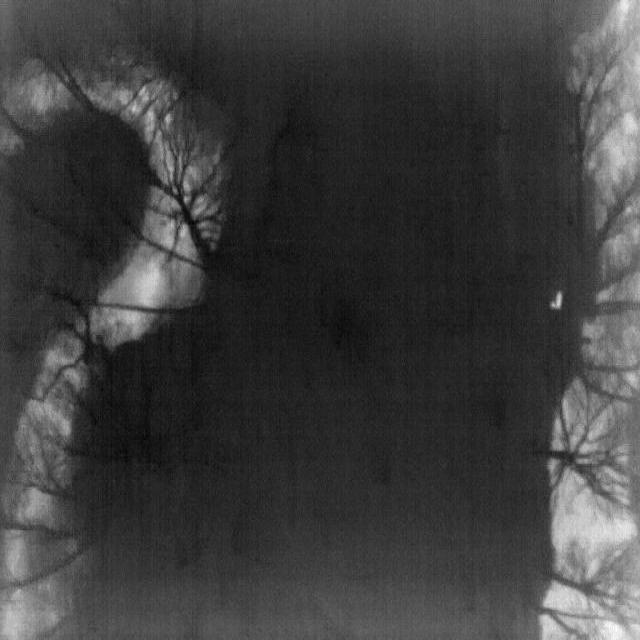deer: (550, 290, 563, 311)
